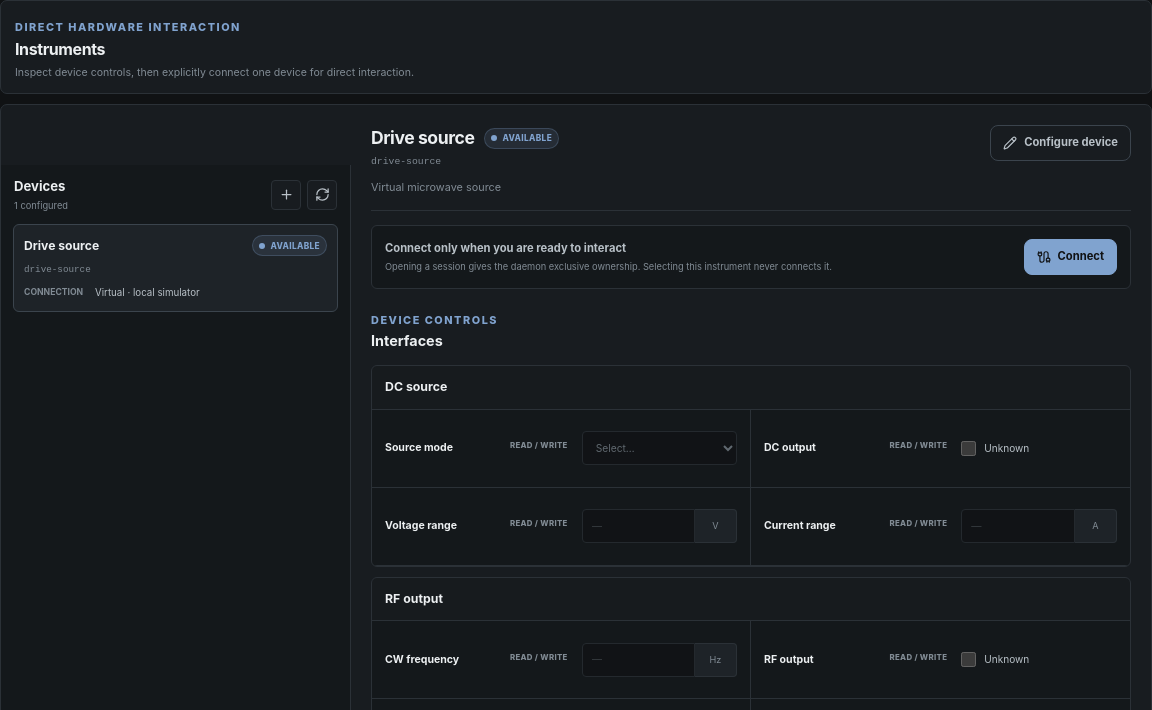
Test: instrument workspace › renders every flat interface property in declaration order
Expected: the heading "DC source" is shown, [385, 378, 447, 397]
Expected: the dropdown labelled "Source mode Read / write" is disabled, [582, 431, 737, 465]
What coordinates should you click on to do the following:
click the button "Connect"
I would click on:
 (1070, 257)
Its box is [1024, 239, 1117, 275].
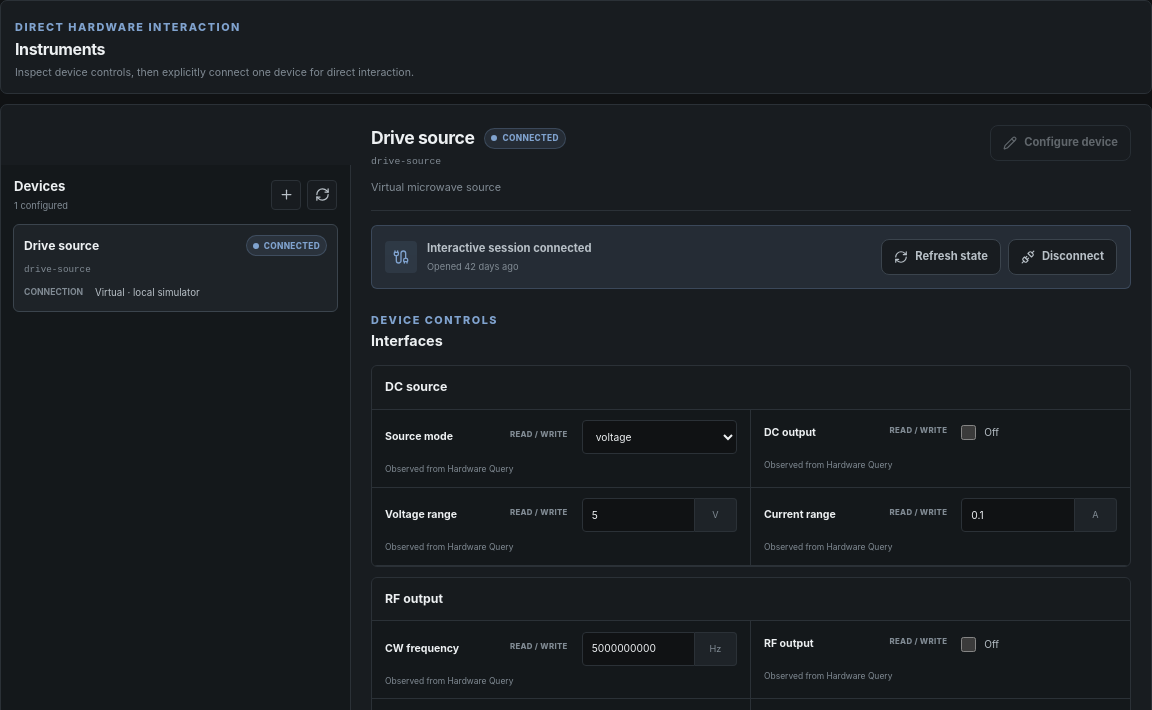
Now the text "Interactive session connected" is shown, box [427, 240, 592, 257]
Now the number field labelled "Voltage range Read / write V Observed from Hardware Query" holds "5", box [582, 498, 695, 532]
Now the number field labelled "Current range Read / write A Observed from Hardware Query" holds "0.1", box [961, 498, 1075, 532]
